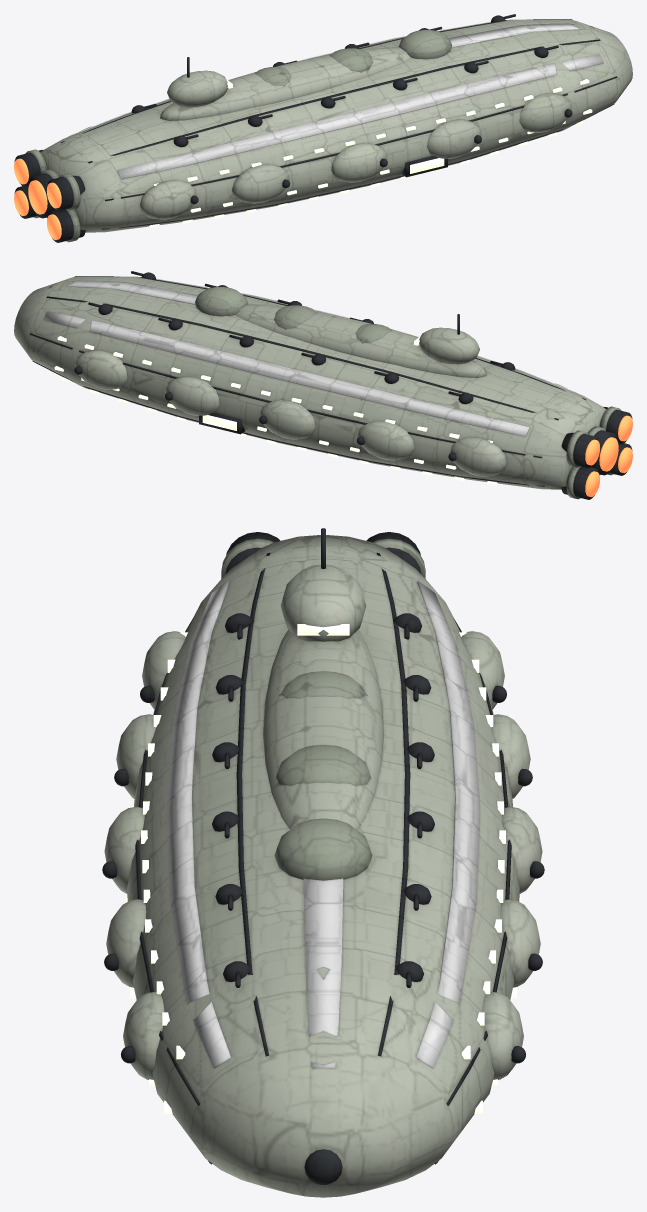
The model's file is rebel-cruiser.glb.
The picture shows the model from 3 angles, top to bottom: view 1: azimuth 30°, elevation 25°; view 2: azimuth 150°, elevation 25°; view 3: azimuth 270°, elevation 25°; orthographic projection. The views are drawn at different scales.
Visible parts, largest first — view 1: MC80_Cruiser; view 2: MC80_Cruiser; view 3: MC80_Cruiser.
Boxes of the visible parts, box(x1,y1,x2,y2) form: MC80_Cruiser: box(14, 14, 632, 242); MC80_Cruiser: box(14, 271, 632, 499); MC80_Cruiser: box(102, 528, 544, 1197).
Bounding box in the file's own units: 3.12 × 0.83 × 1.01.
Materials: 6 (6 with a texture image).
